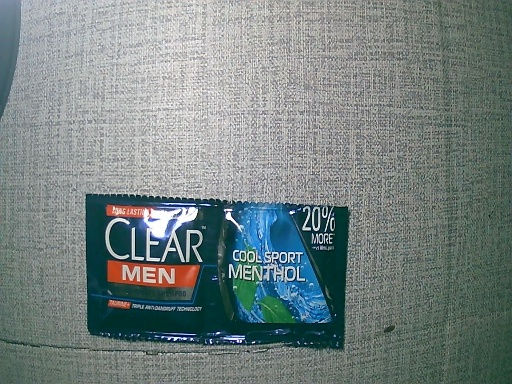plastic: (82, 192, 348, 355)
